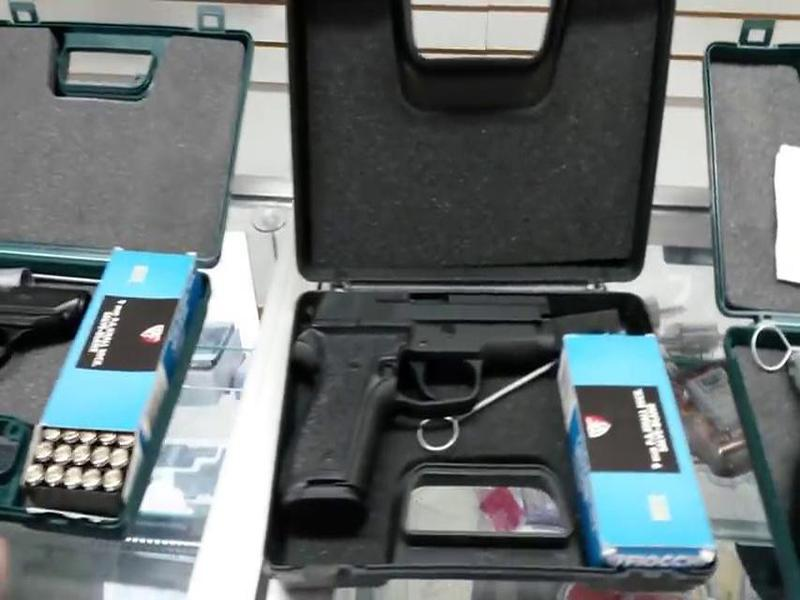Pistola: (266, 288, 578, 525)
